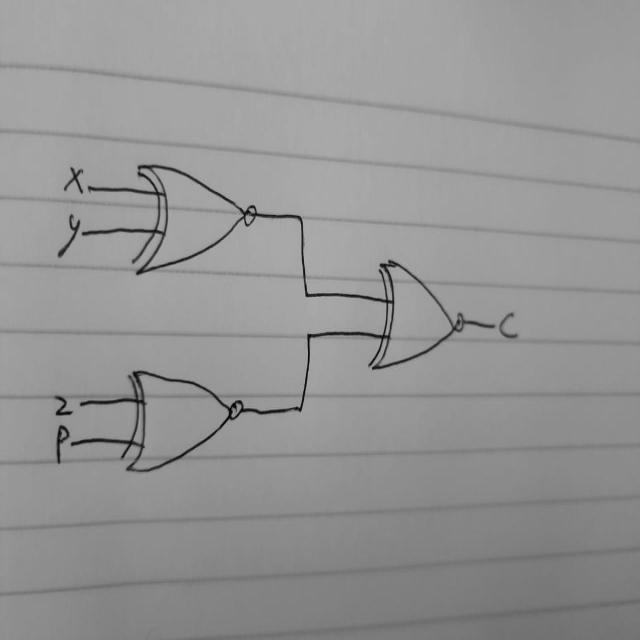XNOR: (123, 334, 260, 496), (128, 137, 266, 293), (370, 241, 480, 394)
